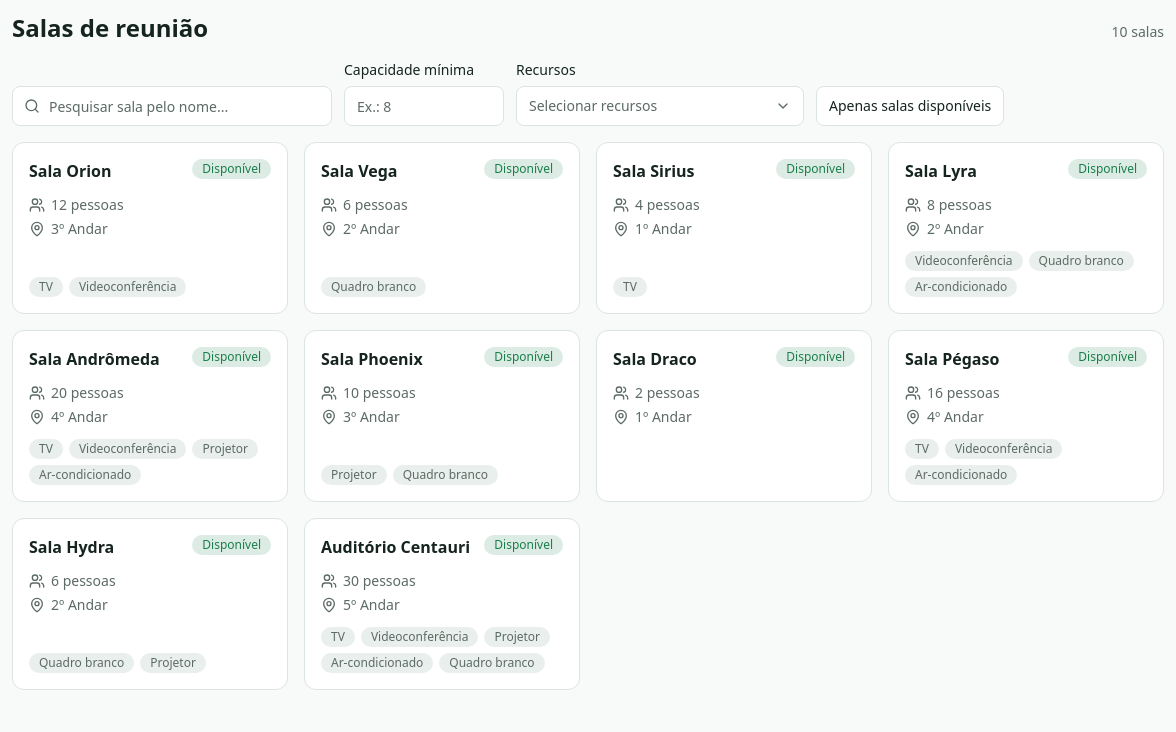
Home (rooms listing) › clears the search from the persistent clear button
Expected: the heading "Sala Orion" is shown, [29,159,112,183]
Type "pegaso" into the search field labelled "Pesquisar sala" at [172, 106], box [12,86,332,126]
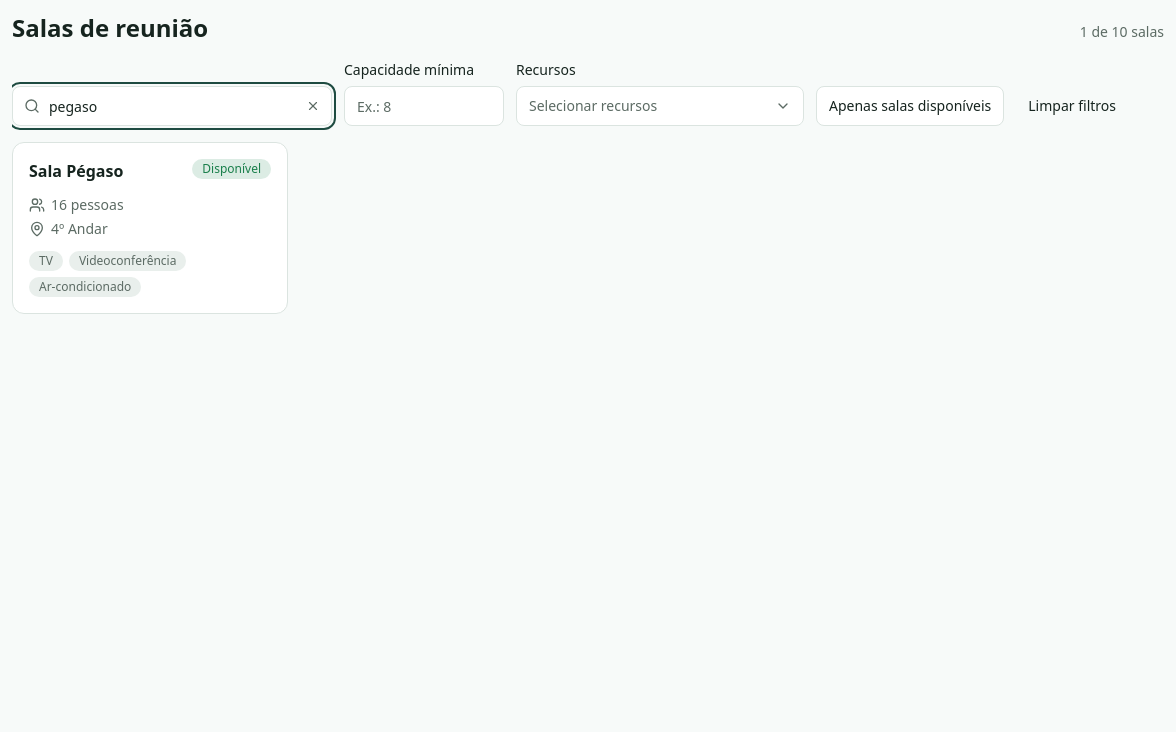
Expected: the text "1 de 10 salas" is shown, [1080,22,1164,42]
Click the button named "Limpar pesquisa" at [313, 106], box [302,95,324,117]
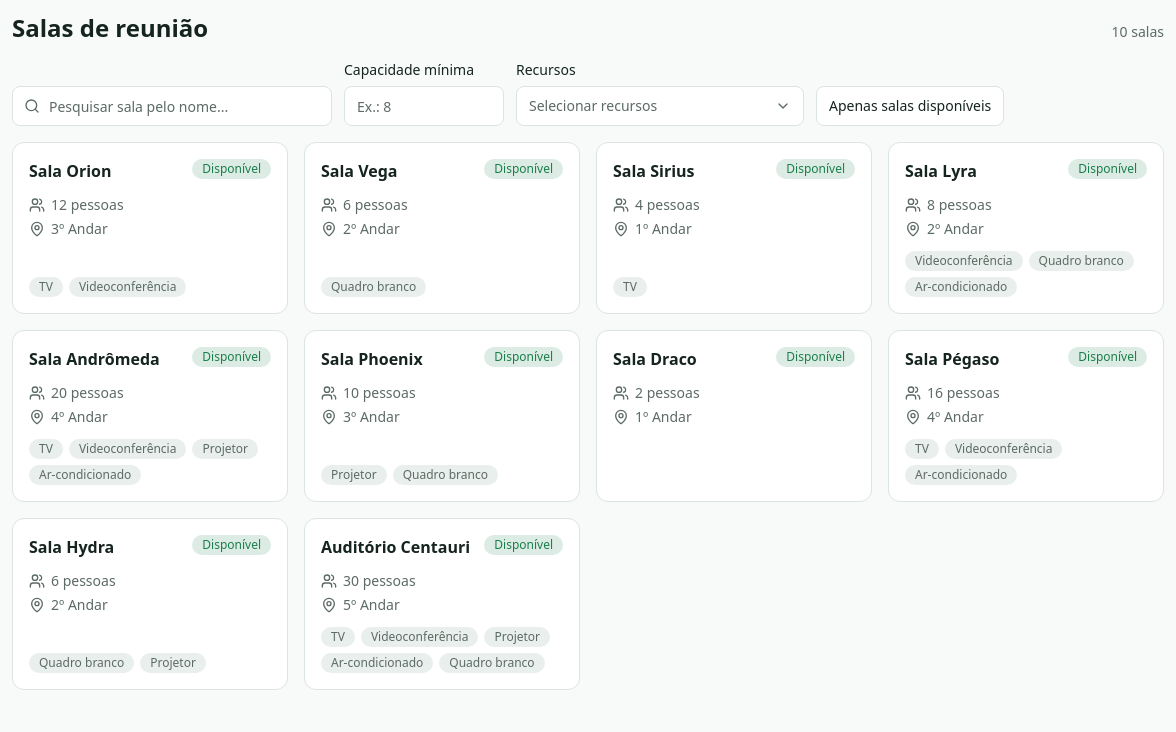
Expected: the text "10 salas" is shown, [1112,22,1164,42]
Expected: the search field labelled "Pesquisar sala" is empty, [12,86,332,126]
